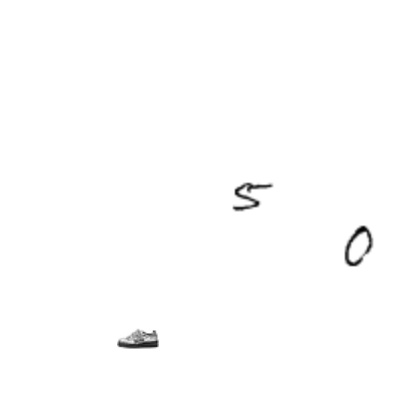0: (329, 216, 385, 272)
5: (221, 167, 277, 223)
Sneaker: (117, 317, 159, 359)
